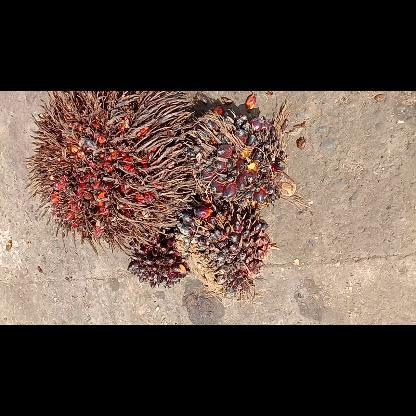TBS abnormal: (180, 102, 288, 216), (172, 204, 272, 300), (126, 229, 190, 289)
Terlalu masak: (22, 90, 198, 258)
